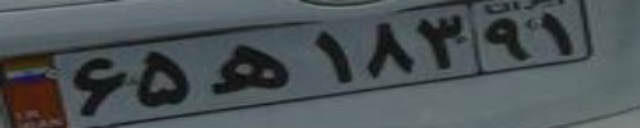1: (314, 29, 352, 83), (539, 11, 577, 57)
3: (416, 13, 464, 70)
5: (135, 50, 190, 108)
6: (73, 56, 128, 116)
8: (366, 21, 413, 78)
9: (481, 16, 529, 62)
he: (205, 43, 290, 93)
